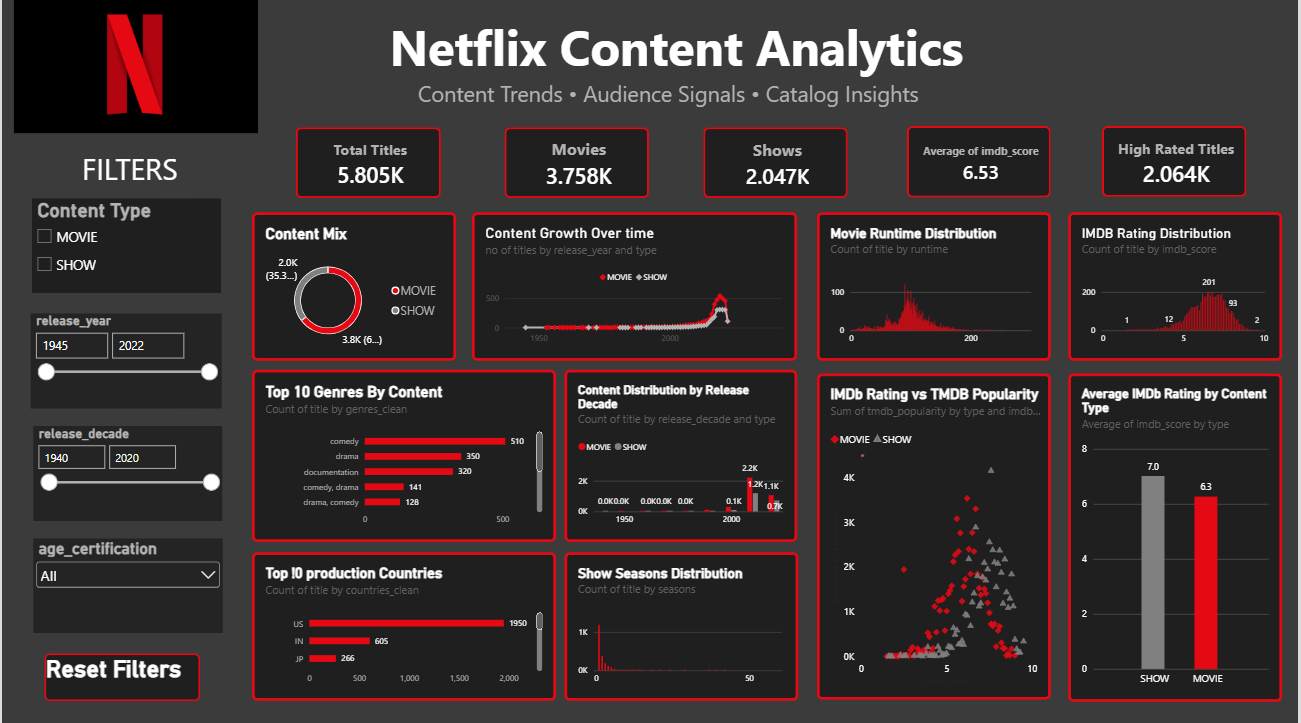

The dashboard page shown, as its layout file describes it:
{"tool":"powerbi","page":{"name":"Page 1","canvas":[1920,1080],"ordinal":0},"visuals":[{"type":"cardVisual","title":"Total Titles","fields":{"Data":["CountNonNull(ott_titles_cleaned.title)"]},"box":[435,195,215.7,105.7],"z":0},{"type":"cardVisual","title":"Movies","fields":{"Data":["CountNonNull(ott_titles_cleaned.title)"]},"box":[745.3,194.3,214.3,105.7],"z":1000},{"type":"cardVisual","title":"Shows","fields":{"Data":["CountNonNull(ott_titles_cleaned.title)"]},"box":[1039.6,194.3,214.5,105.5],"z":2000},{"type":"cardVisual","title":"High Rated Titles","fields":{"Data":["CountNonNull(ott_titles_cleaned.title)"]},"box":[1630.2,192.5,214.3,105.7],"z":3000},{"type":"slicer","title":"Content Type","fields":{"Values":["ott_titles_cleaned.type"]},"box":[45,300,280,140],"z":4000},{"type":"slicer","fields":{"Values":["ott_titles_cleaned.release_year"]},"box":[43.3,470,281.2,140],"z":5000},{"type":"slicer","fields":{"Values":["ott_titles_cleaned.age_certification"]},"box":[46.7,803.3,281,140],"z":6000},{"type":"slicer","fields":{"Values":["ott_titles_cleaned.release_decade"]},"box":[46.3,635.2,277.8,140.7],"z":7000},{"type":"donutChart","title":"Content Mix","fields":{"Category":["ott_titles_cleaned.type"],"Y":["CountNonNull(ott_titles_cleaned.title)"]},"box":[370,320,302.2,220],"z":8000},{"type":"lineChart","title":"Content Growth Over time","fields":{"Category":["ott_titles_cleaned.release_year"],"Y":["CountNonNull(ott_titles_cleaned.title)"],"Series":["ott_titles_cleaned.type"]},"box":[696.7,320,481.7,220],"z":9000},{"type":"clusteredBarChart","title":"Top 10 Genres By Content","fields":{"Category":["ott_titles_cleaned.genres_clean"],"Y":["CountNonNull(ott_titles_cleaned.title)"]},"box":[370,553.3,450,255],"z":10000},{"type":"clusteredBarChart","title":"Top !0 production Countries","fields":{"Category":["ott_titles_cleaned.countries_clean"],"Y":["CountNonNull(ott_titles_cleaned.title)"]},"box":[370,823.3,450,220],"z":11000},{"type":"clusteredColumnChart","title":"Average IMDb Rating by Content Type","fields":{"Category":["ott_titles_cleaned.type"],"Y":["Avg(ott_titles_cleaned.imdb_score)"]},"box":[1580,560,316.7,486.7],"z":12000},{"type":"clusteredColumnChart","title":"IMDB Rating Distribution","fields":{"Category":["ott_titles_cleaned.imdb_score"],"Y":["CountNonNull(ott_titles_cleaned.title)"]},"box":[1580,320,316.7,220],"z":13000},{"type":"scatterChart","title":"IMDb Rating vs TMDB Popularity","fields":{"X":["ott_titles_cleaned.imdb_score"],"Y":["Sum(ott_titles_cleaned.tmdb_popularity)"],"Series":["ott_titles_cleaned.type"]},"box":[1206.7,560,346.7,483.3],"z":14000},{"type":"clusteredColumnChart","title":"Content Distribution by Release Decade","fields":{"Category":["ott_titles_cleaned.release_decade"],"Y":["CountNonNull(ott_titles_cleaned.title)"],"Series":["ott_titles_cleaned.type"]},"box":[833.3,553.3,345,255],"z":15000},{"type":"clusteredColumnChart","title":"Movie Runtime Distribution","fields":{"Category":["ott_titles_cleaned.runtime"],"Y":["CountNonNull(ott_titles_cleaned.title)"]},"box":[1206.7,320,346.7,220],"z":16000},{"type":"clusteredColumnChart","title":"Show Seasons Distribution","fields":{"Category":["ott_titles_cleaned.seasons"],"Y":["CountNonNull(ott_titles_cleaned.title)"]},"box":[833.3,823.3,346.7,220],"z":17000},{"type":"cardVisual","fields":{"Data":["Avg(ott_titles_cleaned.imdb_score)"]},"box":[1341.5,192.5,213.3,106.7],"z":18000},{"type":"textbox","box":[520,25,975,145],"z":19000},{"type":"image","box":[0,0,396.7,203.3],"z":20000},{"type":"textbox","box":[64,226,230,58],"z":21000},{"type":"actionButton","title":"  Reset Filters","box":[83.3,974.1,230,70],"z":21001}]}

Visuals, with their boxes in screenshot pixels (x1, y1, x2, y2), scaled from the page's 1920x1080 canvas onto the 1301x723 screenshot:
"Total Titles" cardVisual: (x1=295, y1=131, x2=441, y2=201)
"Movies" cardVisual: (x1=505, y1=130, x2=650, y2=201)
"Shows" cardVisual: (x1=704, y1=130, x2=850, y2=201)
"High Rated Titles" cardVisual: (x1=1105, y1=129, x2=1250, y2=200)
"Content Type" slicer: (x1=30, y1=201, x2=220, y2=295)
slicer - ott_titles_cleaned.release_year: (x1=29, y1=315, x2=220, y2=408)
slicer - ott_titles_cleaned.age_certification: (x1=32, y1=538, x2=222, y2=631)
slicer - ott_titles_cleaned.release_decade: (x1=31, y1=425, x2=220, y2=519)
"Content Mix" donutChart: (x1=251, y1=214, x2=455, y2=362)
"Content Growth Over time" lineChart: (x1=472, y1=214, x2=798, y2=362)
"Top 10 Genres By Content" clusteredBarChart: (x1=251, y1=370, x2=556, y2=541)
"Top !0 production Countries" clusteredBarChart: (x1=251, y1=551, x2=556, y2=698)
"Average IMDb Rating by Content Type" clusteredColumnChart: (x1=1071, y1=375, x2=1285, y2=701)
"IMDB Rating Distribution" clusteredColumnChart: (x1=1071, y1=214, x2=1285, y2=362)
"IMDb Rating vs TMDB Popularity" scatterChart: (x1=818, y1=375, x2=1053, y2=698)
"Content Distribution by Release Decade" clusteredColumnChart: (x1=565, y1=370, x2=798, y2=541)
"Movie Runtime Distribution" clusteredColumnChart: (x1=818, y1=214, x2=1053, y2=362)
"Show Seasons Distribution" clusteredColumnChart: (x1=565, y1=551, x2=800, y2=698)
cardVisual - Avg(ott_titles_cleaned.imdb_score): (x1=909, y1=129, x2=1054, y2=200)
textbox: (x1=352, y1=17, x2=1013, y2=114)
image: (x1=0, y1=0, x2=269, y2=136)
textbox: (x1=43, y1=151, x2=199, y2=190)
"  Reset Filters" actionButton: (x1=56, y1=652, x2=212, y2=699)
